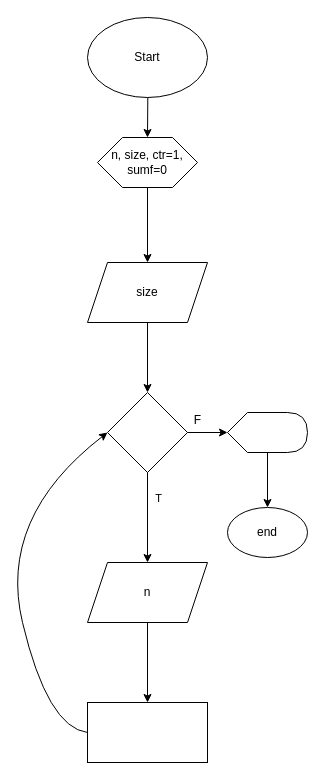
Image size: 325x780. Some labels were removed from this diagram. Each missing label, with the centre of its shape:
"ctr<=size" goes at (x=147, y=432).
"sumf" goes at (x=267, y=432).
"sumf = sumf +n" goes at (x=147, y=732).
